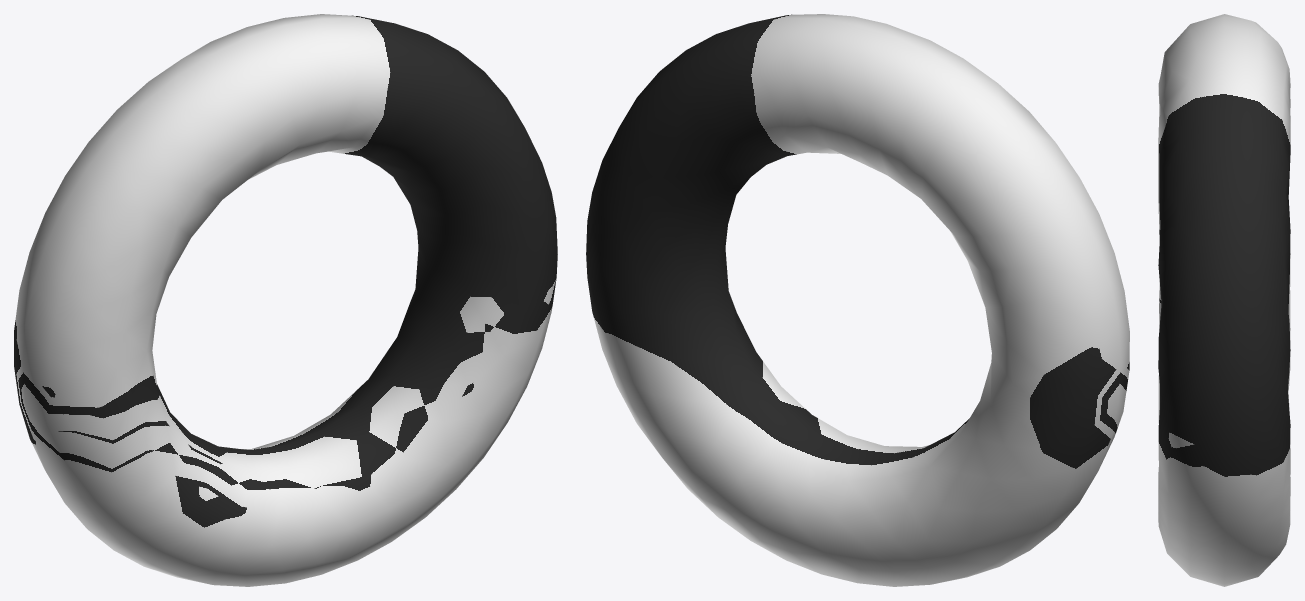
File: torus_R50mm_r15mm_cgal_conformal_result.glb
The picture shows the model from 3 angles, left to right: view 1: azimuth 30°, elevation 25°; view 2: azimuth 150°, elevation 25°; view 3: azimuth 270°, elevation 25°; orthographic projection. The views are drawn at different scales.
Bounding box in the file's own units: 130 × 130 × 30.
Materials: 1 (1 with a texture image).
